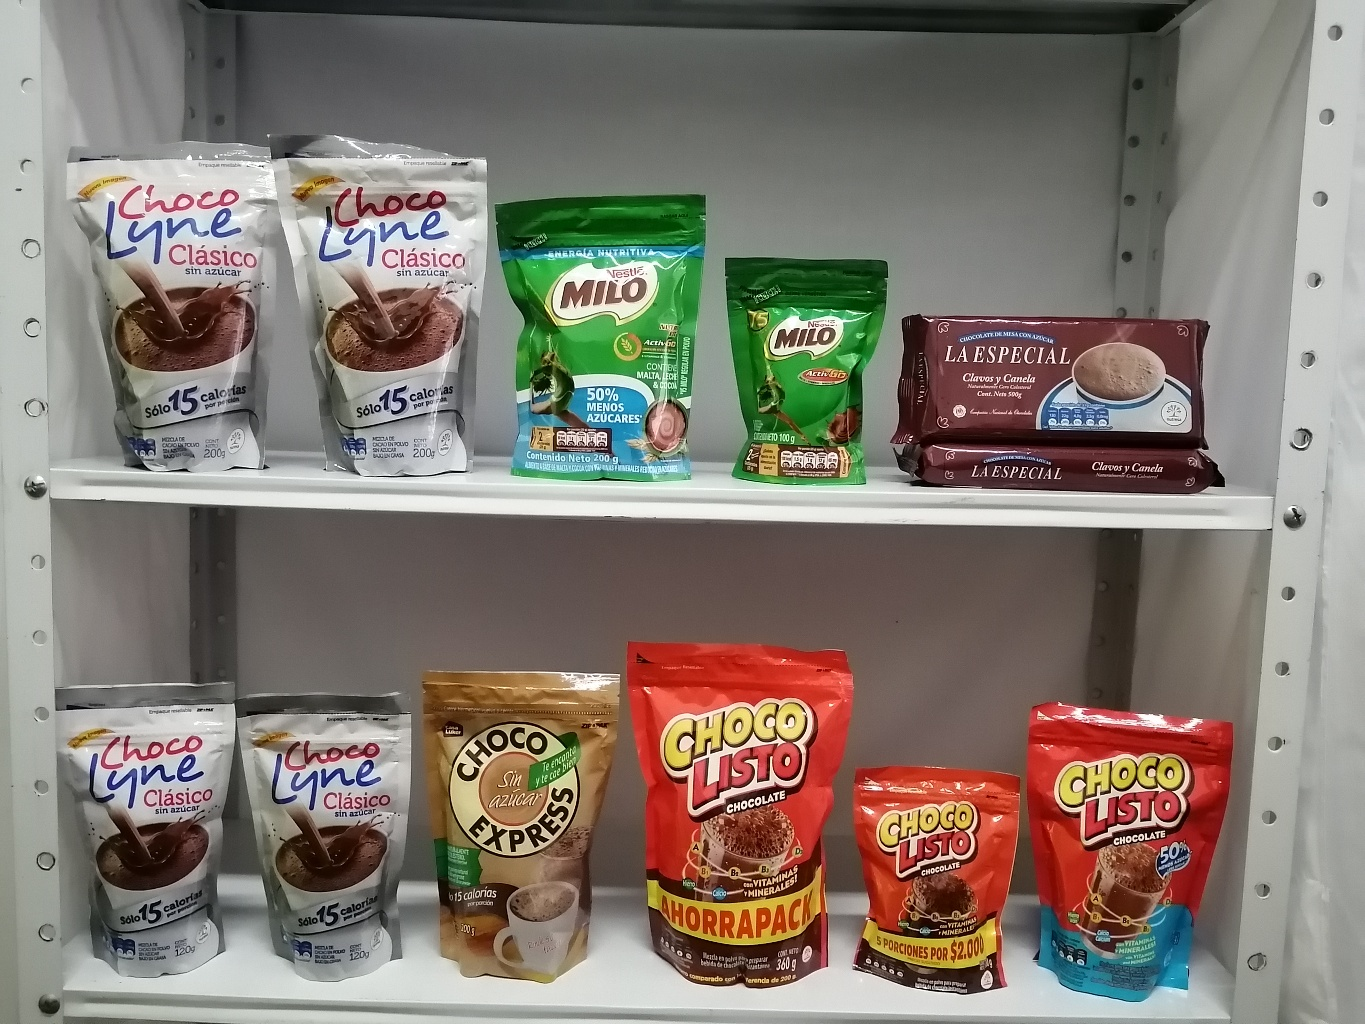COL0170103DYP36000: (628, 639, 853, 987)
COL0170104DYP20000: (1030, 700, 1242, 1002)
COL0170203DYP10000: (720, 256, 887, 488)
COL0170205DYP20000: (492, 188, 716, 479)
